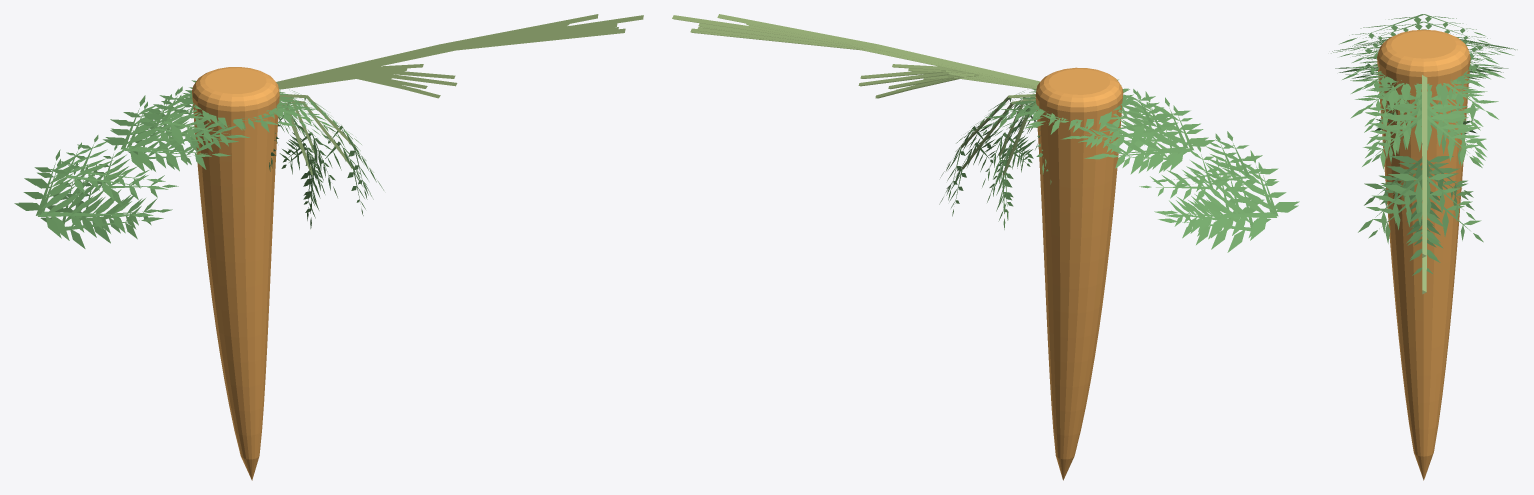
The model's file is carrot_harvest_v02.articulated.glb.
3 views of the same model, side by side, from view 1: azimuth 30°, elevation 25°; view 2: azimuth 150°, elevation 25°; view 3: azimuth 270°, elevation 25° (orthographic). The views are drawn at different scales.
Visible parts, largest first — view 1: root, leaf06_link2, leaf02_link2, leaf03_link2, leaf04_link2, leaf07_link2, leaf02_link0, leaf05_link2, leaf00_link2, leaf03_link0, leaf07_link0, leaf01_link2; view 2: root, leaf06_link2, leaf02_link2, leaf03_link2, leaf04_link2, leaf07_link2, leaf05_link2, leaf07_link0, leaf00_link2, leaf01_link2, leaf02_link0, leaf06_link0 (+1 smaller); view 3: root, leaf06_link2, leaf02_link2, leaf03_link2, leaf04_link2, leaf05_link2, leaf07_link2, leaf07_link0, leaf00_link2, leaf02_link0.
Boxes of the visible parts, left/top/right/bottom form: root: left=192, top=67, right=279, bottom=480; leaf06_link2: left=14, top=80, right=383, bottom=238; leaf02_link2: left=19, top=90, right=337, bottom=240; leaf03_link2: left=40, top=93, right=373, bottom=248; leaf04_link2: left=72, top=90, right=325, bottom=241; leaf07_link2: left=50, top=86, right=316, bottom=199; leaf02_link0: left=276, top=15, right=643, bottom=86; leaf05_link2: left=59, top=88, right=326, bottom=237; leaf00_link2: left=68, top=94, right=297, bottom=190; leaf03_link0: left=278, top=28, right=625, bottom=87; leaf07_link0: left=276, top=14, right=598, bottom=82; leaf01_link2: left=94, top=95, right=295, bottom=206; root: left=1035, top=67, right=1123, bottom=480; leaf06_link2: left=940, top=85, right=1298, bottom=240; leaf02_link2: left=976, top=79, right=1299, bottom=237; leaf03_link2: left=939, top=91, right=1270, bottom=252; leaf04_link2: left=987, top=88, right=1238, bottom=237; leaf07_link2: left=1003, top=89, right=1265, bottom=193; leaf05_link2: left=985, top=91, right=1255, bottom=234; leaf07_link0: left=717, top=14, right=1040, bottom=85; leaf00_link2: left=1007, top=102, right=1251, bottom=191; leaf01_link2: left=1020, top=111, right=1228, bottom=202; leaf02_link0: left=672, top=15, right=1036, bottom=85; leaf06_link0: left=697, top=27, right=1035, bottom=86; root: left=1377, top=29, right=1470, bottom=480; leaf06_link2: left=1350, top=29, right=1517, bottom=264; leaf02_link2: left=1331, top=40, right=1506, bottom=236; leaf03_link2: left=1335, top=49, right=1508, bottom=275; leaf04_link2: left=1345, top=58, right=1491, bottom=252; leaf05_link2: left=1354, top=52, right=1492, bottom=236; leaf07_link2: left=1339, top=14, right=1498, bottom=133; leaf07_link0: left=1422, top=75, right=1427, bottom=257; leaf00_link2: left=1353, top=21, right=1491, bottom=130; leaf02_link0: left=1422, top=138, right=1427, bottom=293.
Size of the model in its own units: 0.3109 by 0.1978 by 0.0803.
1 material, 1 textured.
